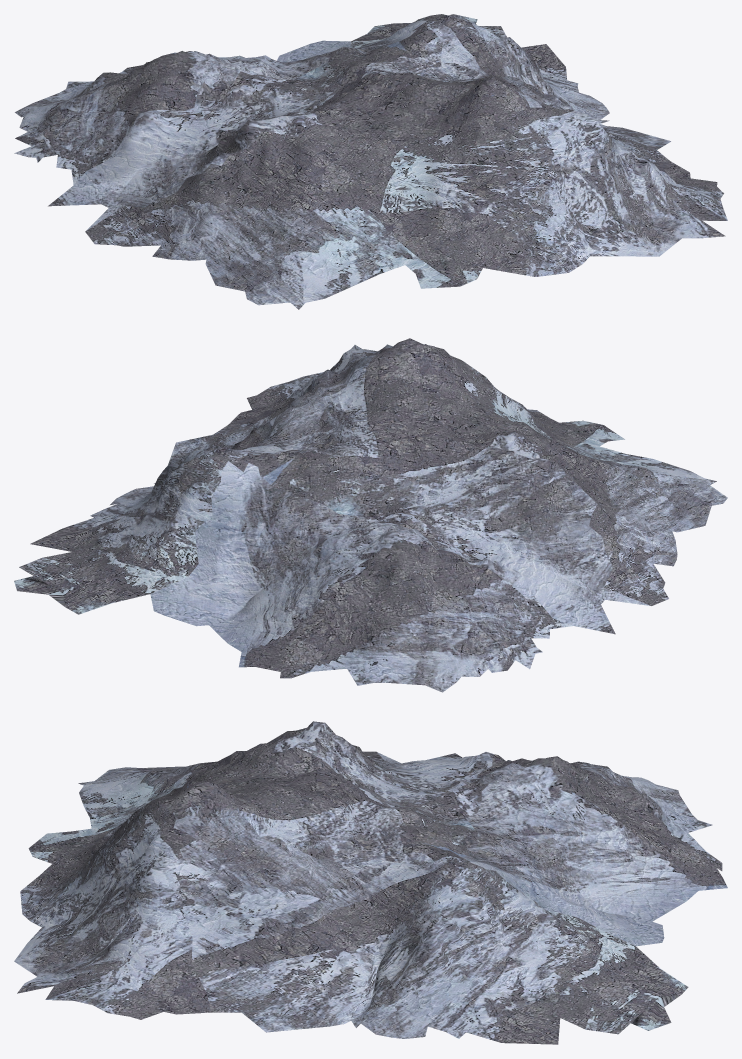
Rendered from MounainAlpsSnow.fbx.
The picture shows the model from 3 angles, top to bottom: view 1: azimuth 30°, elevation 25°; view 2: azimuth 150°, elevation 25°; view 3: azimuth 270°, elevation 25°; orthographic projection. The views are drawn at different scales.
Parts seen in each view (by area): view 1: LV_Common_Mountain_A_Snow03_SM_KSS; view 2: LV_Common_Mountain_A_Snow03_SM_KSS; view 3: LV_Common_Mountain_A_Snow03_SM_KSS.
Part boxes in pixels (bbox=[...]): LV_Common_Mountain_A_Snow03_SM_KSS: bbox=[14, 14, 727, 309]; LV_Common_Mountain_A_Snow03_SM_KSS: bbox=[14, 338, 727, 692]; LV_Common_Mountain_A_Snow03_SM_KSS: bbox=[14, 721, 727, 1044].
Bounding box in the file's own units: 135 × 33.06 × 142.
